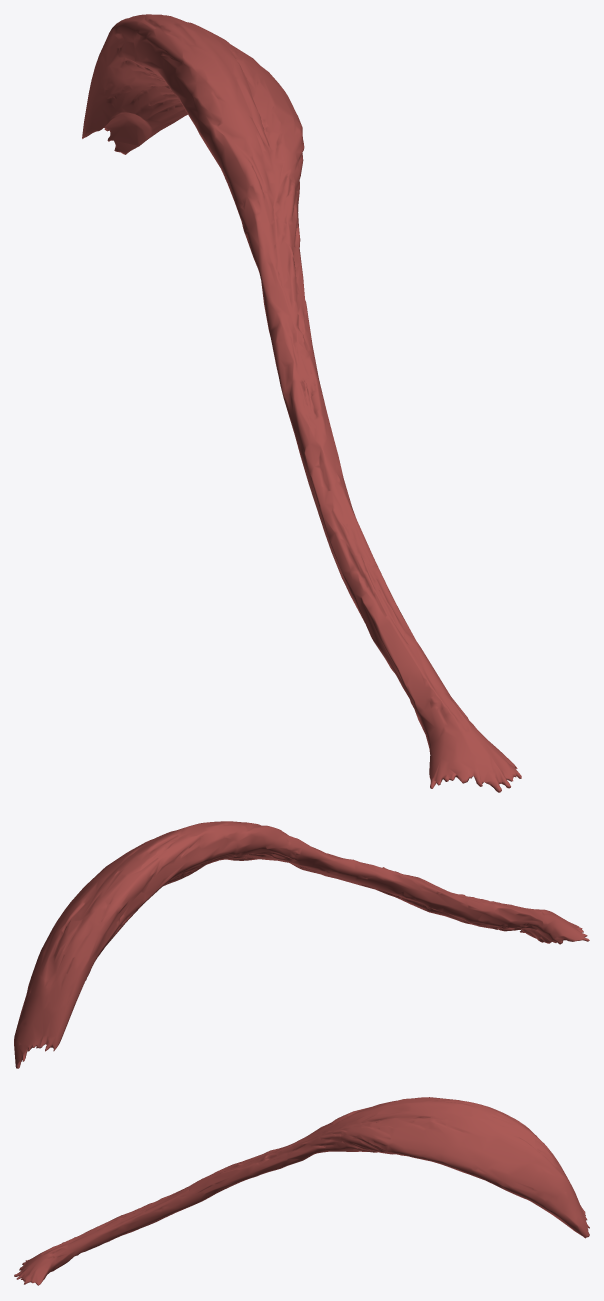
File: FMA51145.glb
3 renders of one model, top to bottom at view 1: azimuth 30°, elevation 25°; view 2: azimuth 150°, elevation 25°; view 3: azimuth 270°, elevation 25°, orthographic. The views are drawn at different scales.
Parts seen in each view (by area): view 1: FMA51145; view 2: FMA51145; view 3: FMA51145.
Part boxes in pixels (box(x1,y1,x2,y2)): FMA51145: box(82, 14, 521, 792); FMA51145: box(14, 821, 589, 1068); FMA51145: box(14, 1097, 589, 1285).
Size of the model in its own units: 0.0328 by 0.0464 by 0.1179.
